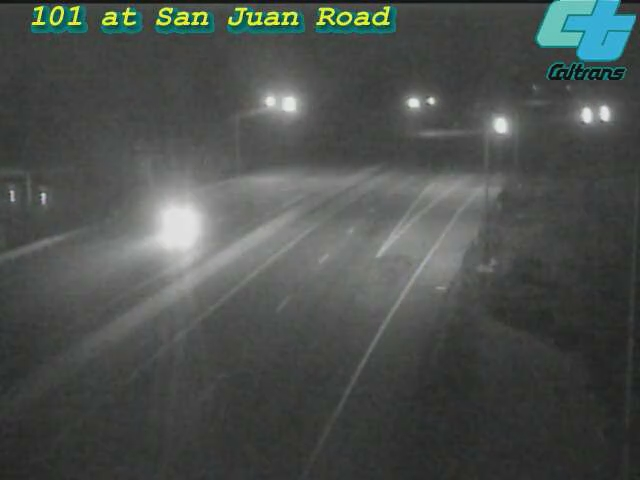vehicle: (139, 183, 219, 263), (477, 101, 527, 151), (562, 91, 612, 141), (578, 90, 628, 140)
